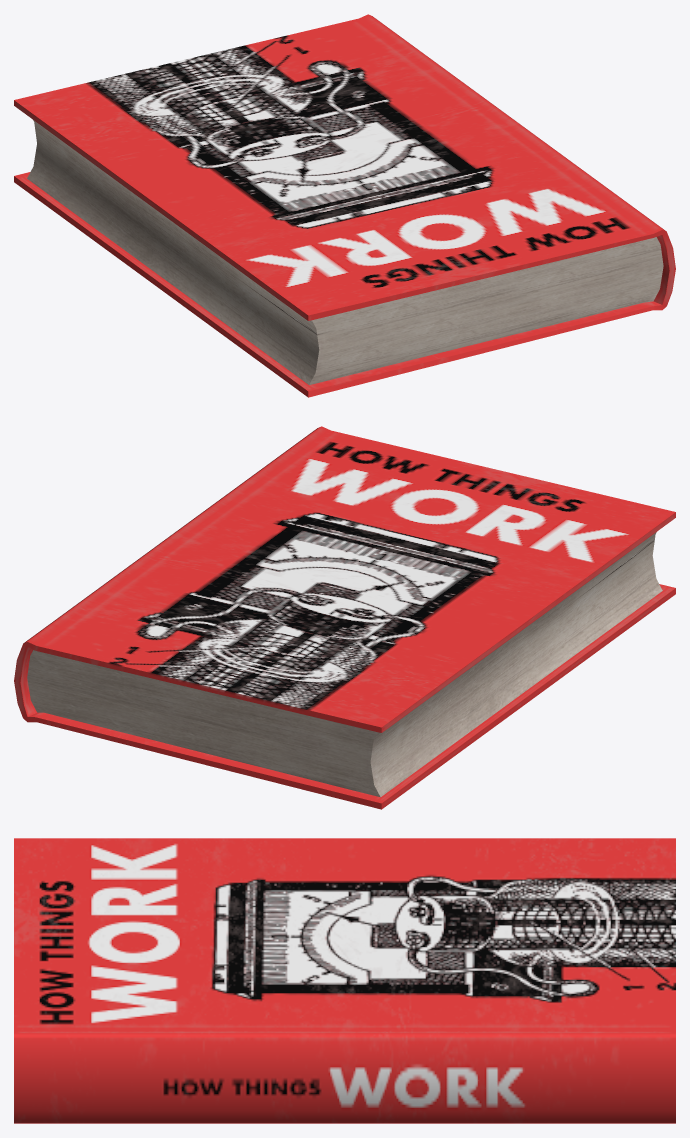
Rendered from SM_Books_03f.fbx.
3 views of the same model, one above another, from view 1: azimuth 30°, elevation 25°; view 2: azimuth 150°, elevation 25°; view 3: azimuth 270°, elevation 25° (orthographic). The views are drawn at different scales.
Parts seen in each view (by area): view 1: SM_Books_03f_LOD0; view 2: SM_Books_03f_LOD0; view 3: SM_Books_03f_LOD0.
Part boxes in pixels (left/top/right/bottom): SM_Books_03f_LOD0: left=14, top=14, right=675, bottom=397; SM_Books_03f_LOD0: left=14, top=426, right=675, bottom=809; SM_Books_03f_LOD0: left=14, top=838, right=675, bottom=1123.
Size of the model in its own units: 19.07 by 26.45 by 4.07.
Materials: 1 (1 with a texture image).
